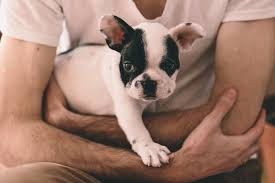dog: (44, 14, 211, 166)
